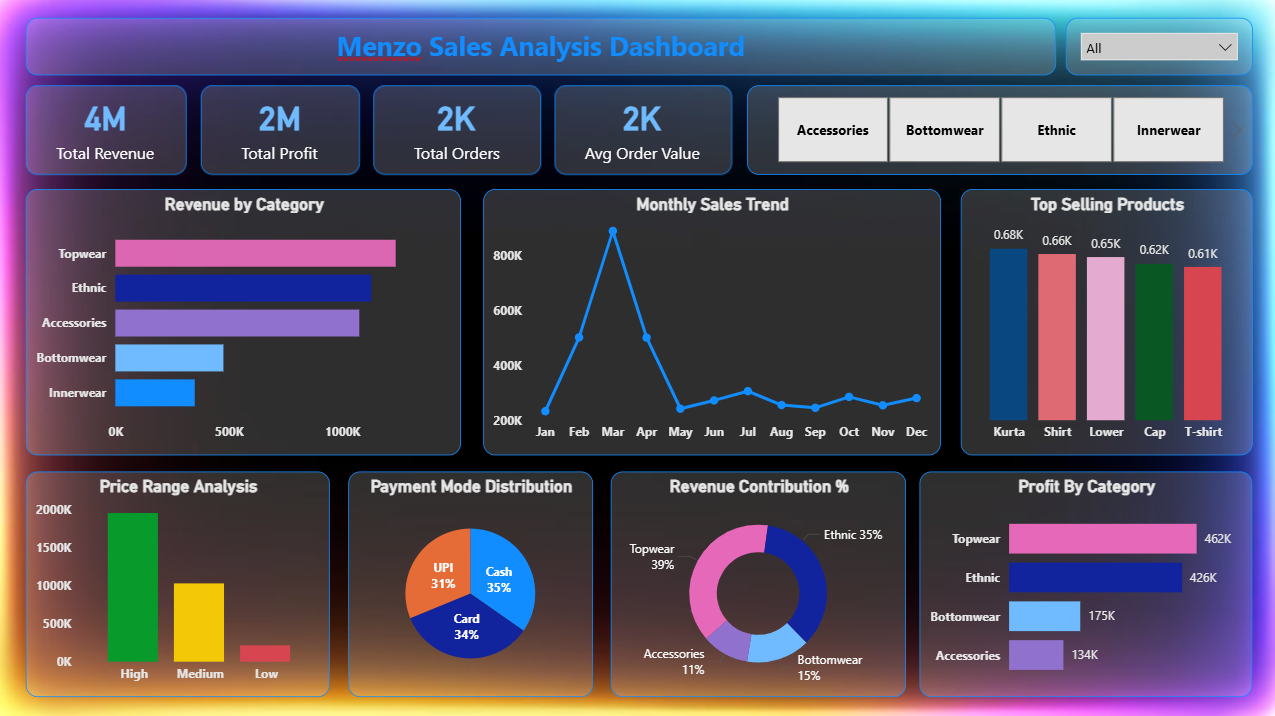

The page's visual inventory and layout, read from the dashboard file:
{"tool":"powerbi","page":{"name":"Page 1","canvas":[1280,720],"ordinal":0},"visuals":[{"type":"clusteredBarChart","title":"Revenue by Category","fields":{"Category":["menzo_sales_data (2).Category"],"Y":["Sum(menzo_sales_data (2).Revenue)"]},"box":[29,189.4,435.5,266.6],"z":0},{"type":"lineChart","title":"Monthly Sales Trend","fields":{"Y":["Sum(menzo_sales_data (2).Revenue)"],"Category":["menzo_sales_data (2).Month_Name"]},"box":[486.2,189.4,457.2,266.6],"z":1000},{"type":"clusteredColumnChart","title":"Top Selling Products","fields":{"Category":["menzo_sales_data (2).Product_Name"],"Y":["Sum(menzo_sales_data (2).Quantity)"]},"box":[963.9,189.4,292,266.6],"z":2000},{"type":"clusteredBarChart","title":"Profit By Category","fields":{"Category":["menzo_sales_data (2).Category"],"Y":["Sum(menzo_sales_data (2).Profit)"]},"box":[922.9,472.9,333,225.6],"z":3000},{"type":"clusteredColumnChart","title":"Price Range Analysis","fields":{"Category":["menzo_sales_data (2).Price Range"],"Y":["Sum(menzo_sales_data (2).Revenue)"]},"box":[29,472.9,304,225.6],"z":4000},{"type":"pieChart","title":"Payment Mode Distribution","fields":{"Y":["CountNonNull(menzo_sales_data (2).Payment_Mode)"],"Category":["menzo_sales_data (2).Payment_Mode"]},"box":[351.1,472.9,244.9,225.6],"z":5000},{"type":"donutChart","title":"Revenue Contribution %","fields":{"Category":["menzo_sales_data (2).Category"],"Y":["Sum(menzo_sales_data (2).Revenue)"]},"box":[614.1,472.9,295.6,225.6],"z":6000},{"type":"slicer","fields":{"Values":["menzo_sales_data (2).Category"]},"box":[750.4,85.7,505.5,89.3],"z":7000},{"type":"slicer","fields":{"Values":["menzo_sales_data (2).Month_Name"]},"box":[1068.9,19.3,187,57.9],"z":8000},{"type":"textbox","box":[29,19.3,1030.3,57.9],"z":9000},{"type":"advanceCardE03760C5AB684758B56AA29F9E6C257B","fields":{"mainMeasure":["Sum(menzo_sales_data (2).Revenue)"]},"box":[29,85.7,160.5,89.3],"z":9001},{"type":"advanceCardE03760C5AB684758B56AA29F9E6C257B","fields":{"mainMeasure":["Sum(menzo_sales_data (2).Profit)"]},"box":[203.9,85.7,159.3,89.3],"z":9002},{"type":"advanceCardE03760C5AB684758B56AA29F9E6C257B","fields":{"mainMeasure":["Count(menzo_sales_data (2).Order_ID)"]},"box":[376.4,85.7,167.7,89.3],"z":9003},{"type":"advanceCardE03760C5AB684758B56AA29F9E6C257B","fields":{"mainMeasure":["menzo_sales_data (2).Avg Order Value"]},"box":[557.4,85.7,177.3,89.3],"z":9004}]}

Visuals, with their boxes in screenshot pixels (x1, y1, x2, y2), scaled from the page's 1280x720 canvas onto the 1275x716 screenshot:
"Revenue by Category" clusteredBarChart: [x1=29, y1=188, x2=463, y2=453]
"Monthly Sales Trend" lineChart: [x1=484, y1=188, x2=940, y2=453]
"Top Selling Products" clusteredColumnChart: [x1=960, y1=188, x2=1251, y2=453]
"Profit By Category" clusteredBarChart: [x1=919, y1=470, x2=1251, y2=695]
"Price Range Analysis" clusteredColumnChart: [x1=29, y1=470, x2=332, y2=695]
"Payment Mode Distribution" pieChart: [x1=350, y1=470, x2=594, y2=695]
"Revenue Contribution %" donutChart: [x1=612, y1=470, x2=906, y2=695]
slicer - menzo_sales_data (2).Category: [x1=747, y1=85, x2=1251, y2=174]
slicer - menzo_sales_data (2).Month_Name: [x1=1065, y1=19, x2=1251, y2=77]
textbox: [x1=29, y1=19, x2=1055, y2=77]
advanceCardE03760C5AB684758B56AA29F9E6C257B - Sum(menzo_sales_data (2).Revenue): [x1=29, y1=85, x2=189, y2=174]
advanceCardE03760C5AB684758B56AA29F9E6C257B - Sum(menzo_sales_data (2).Profit): [x1=203, y1=85, x2=362, y2=174]
advanceCardE03760C5AB684758B56AA29F9E6C257B - Count(menzo_sales_data (2).Order_ID): [x1=375, y1=85, x2=542, y2=174]
advanceCardE03760C5AB684758B56AA29F9E6C257B - menzo_sales_data (2).Avg Order Value: [x1=555, y1=85, x2=732, y2=174]
